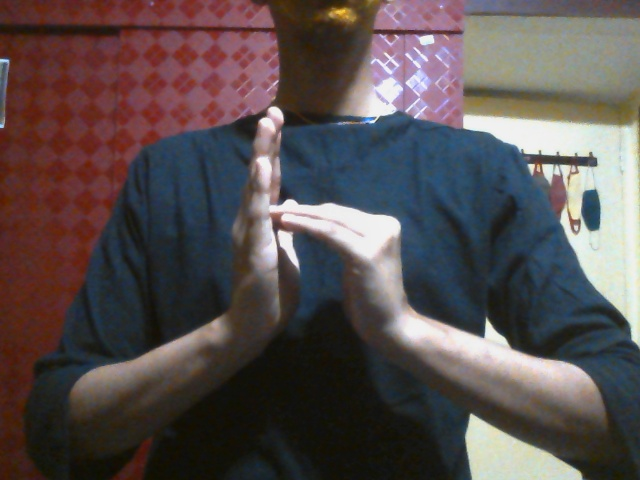Z: (208, 106, 428, 379)
